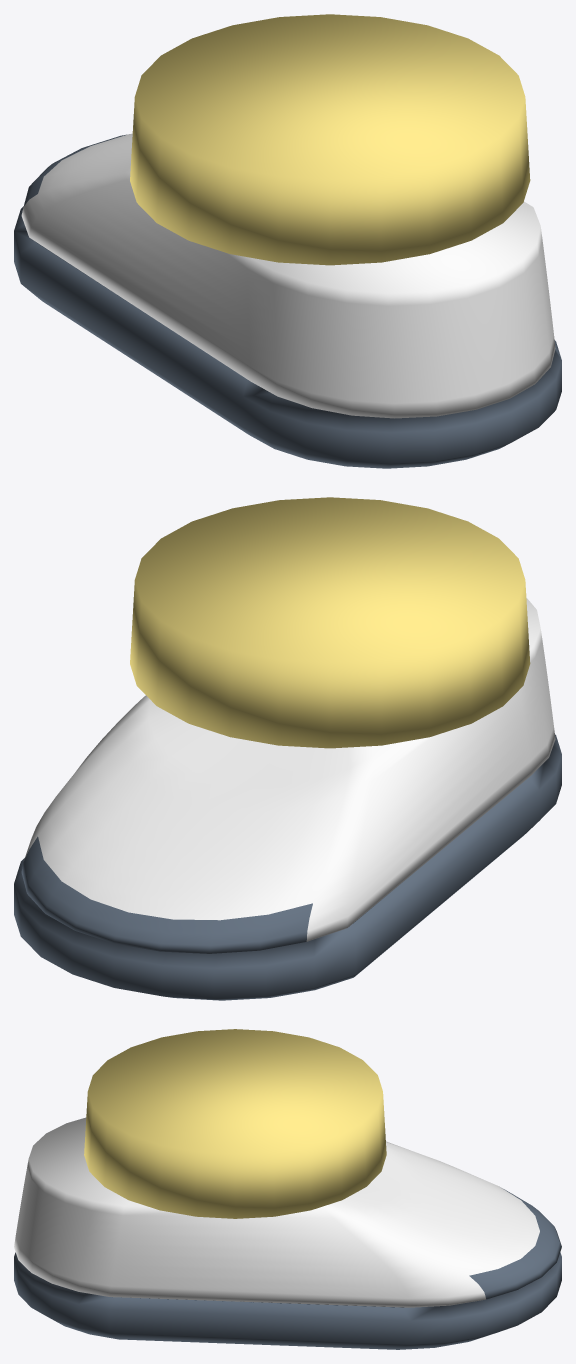
File: shoe.glb
3 renders of one model, top to bottom at view 1: azimuth 30°, elevation 25°; view 2: azimuth 150°, elevation 25°; view 3: azimuth 270°, elevation 25°, orthographic. The views are drawn at different scales.
Parts seen in each view (by area): view 1: shoe; view 2: shoe; view 3: shoe.
Part boxes in pixels (x1,y1,x2,y2): shoe: (14,14,561,468); shoe: (14,497,561,1000); shoe: (14,1029,561,1349).
Bounding box in the file's own units: 0.164 × 0.119 × 0.297.
